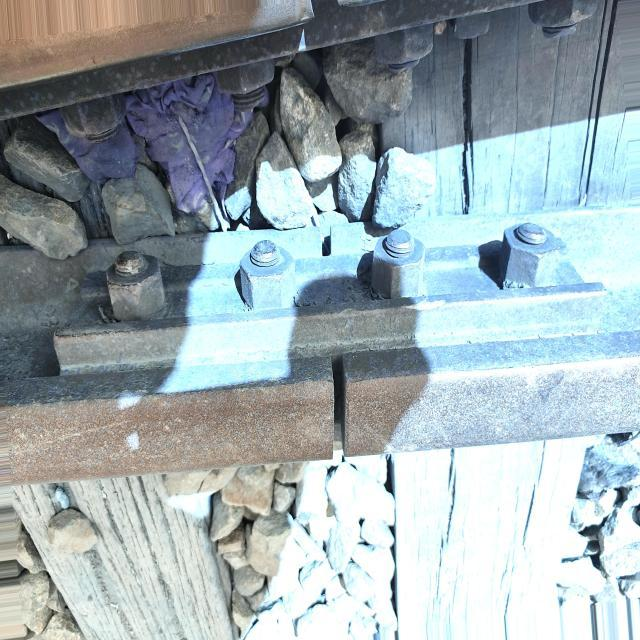Good Joint: (40, 223, 606, 391)
